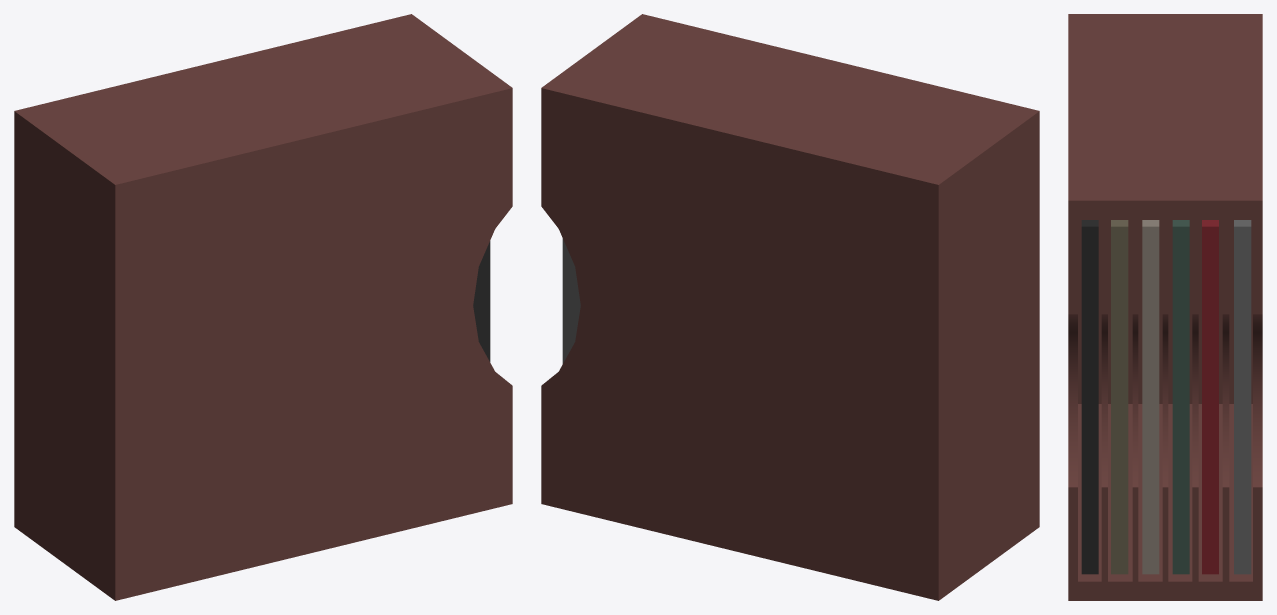
The picture shows the model from 3 angles, left to right: view 1: azimuth 30°, elevation 25°; view 2: azimuth 150°, elevation 25°; view 3: azimuth 270°, elevation 25°; orthographic projection. The views are drawn at different scales.
Visible parts, largest first — view 1: fbx_LP_1; view 2: fbx_LP_1; view 3: fbx_LP_1.
Boxes of the visible parts, x1=… form: fbx_LP_1: x1=14, y1=14, x2=512, y2=600; fbx_LP_1: x1=541, y1=14, x2=1039, y2=600; fbx_LP_1: x1=1068, y1=14, x2=1262, y2=600.
Size of the model in its own units: 0.5316 by 0.5316 by 0.2342.
Materials: 1 (1 with a texture image).
